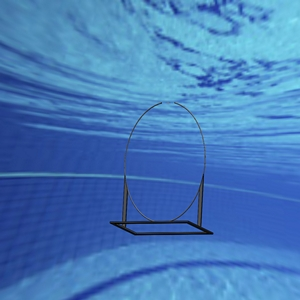circle: (108, 100, 214, 237)
